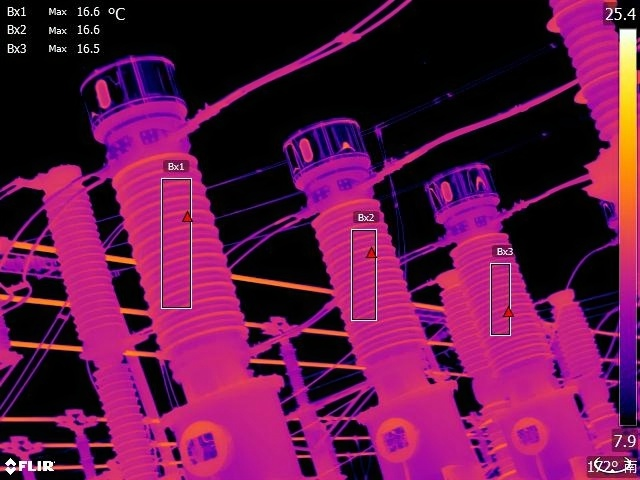circuit breaker: (39, 153, 157, 480), (436, 261, 519, 480), (553, 281, 633, 468)
current transformer: (74, 39, 303, 480), (285, 104, 477, 480), (425, 154, 598, 480)
post insulator: (540, 1, 619, 140), (280, 339, 311, 408), (68, 424, 102, 480)
